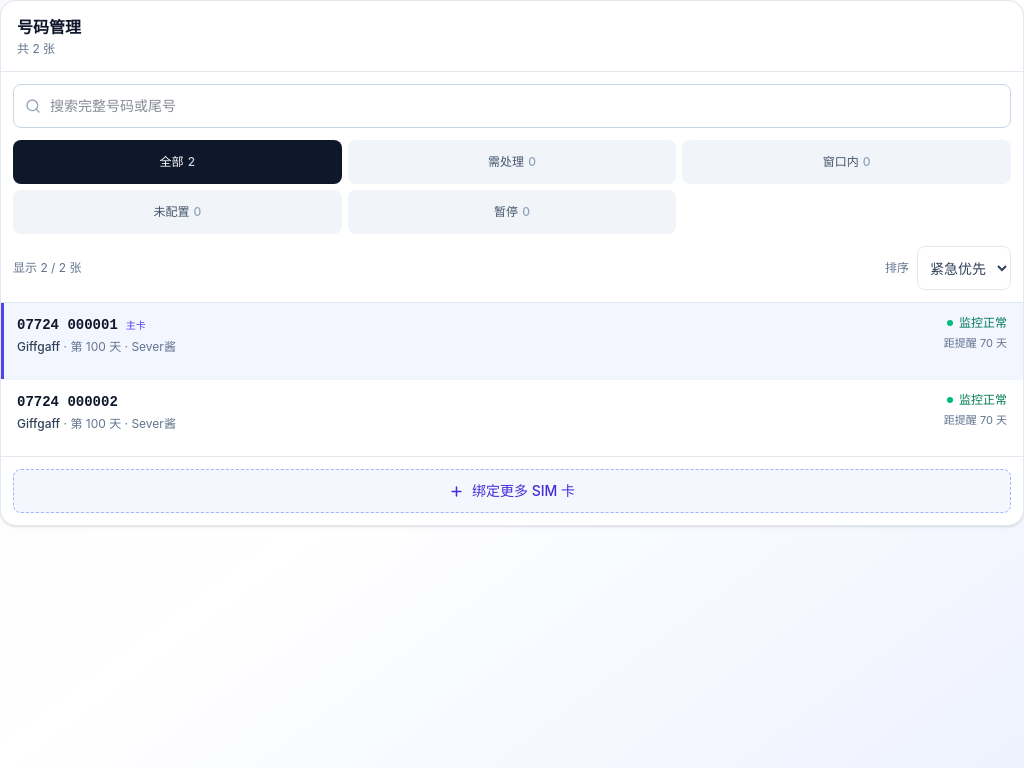
Test: <SimManager /> › 点击目标号码后立即显示正在加载，并在新详情到达后恢复
Click the link "07724 000002 Giffgaff · 第 100 天 · Sever酱 监控正常 距提醒 70 天" at (67, 402), box [17,392,1007,431]
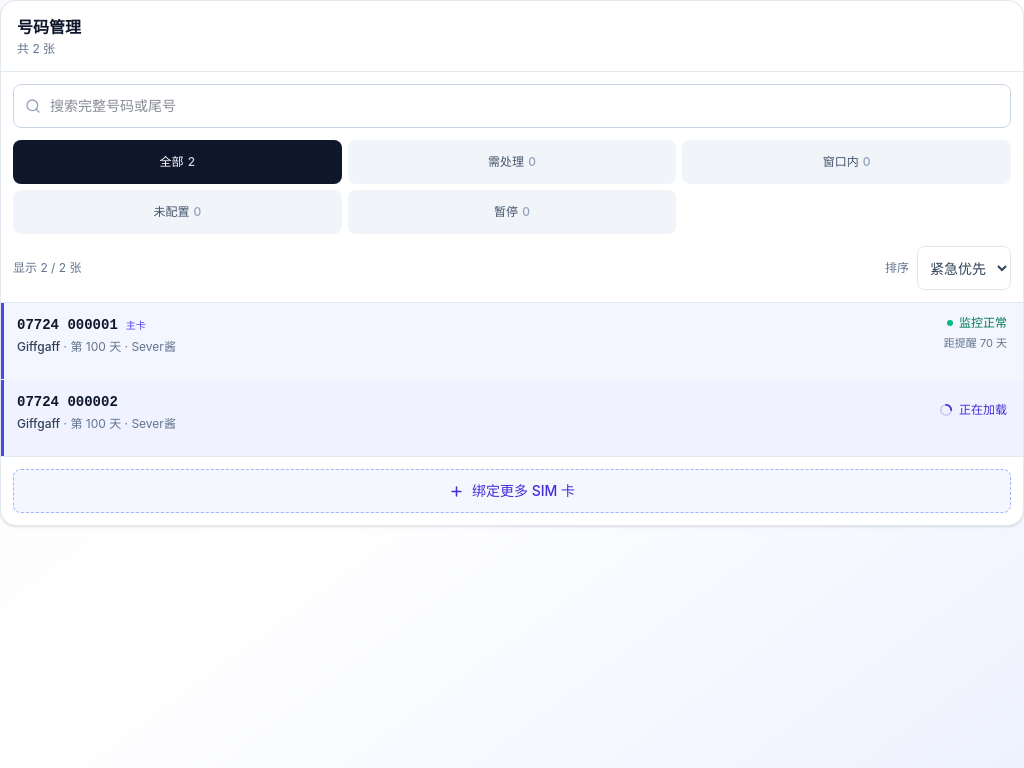
Expected: the text "正在加载" is shown, [939,402,1007,417]
